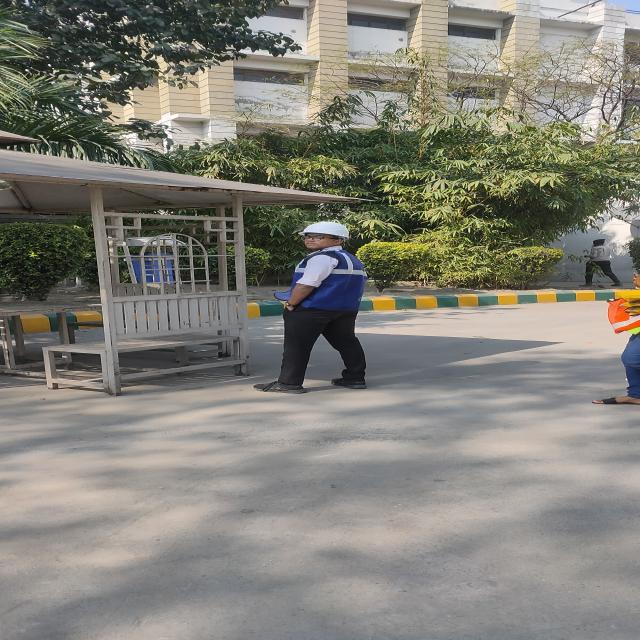safe: (281, 222, 369, 394)
